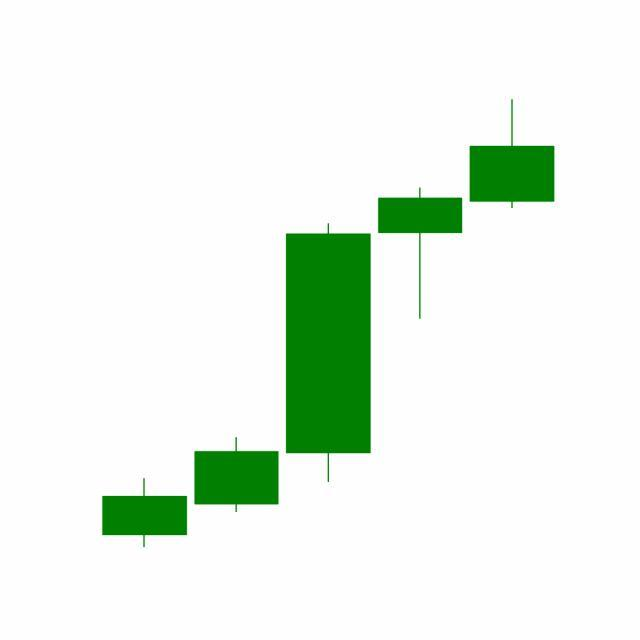Advance Block: (190, 184, 467, 516)
